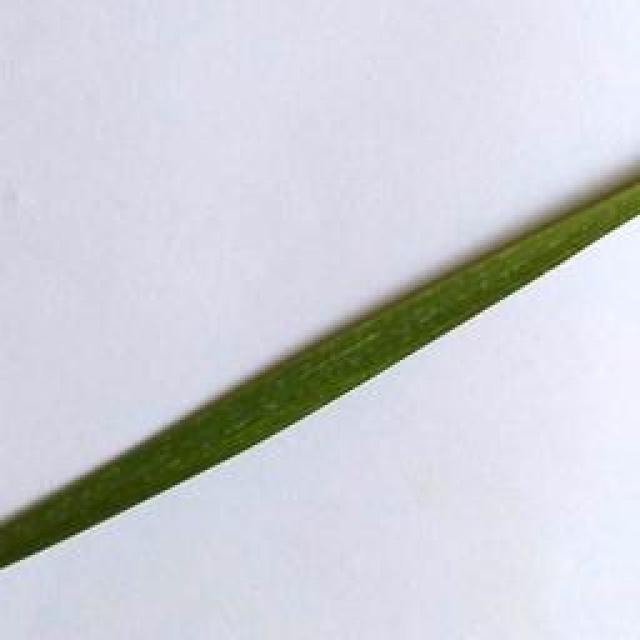Healthy-Plant: (0, 181, 640, 564)
